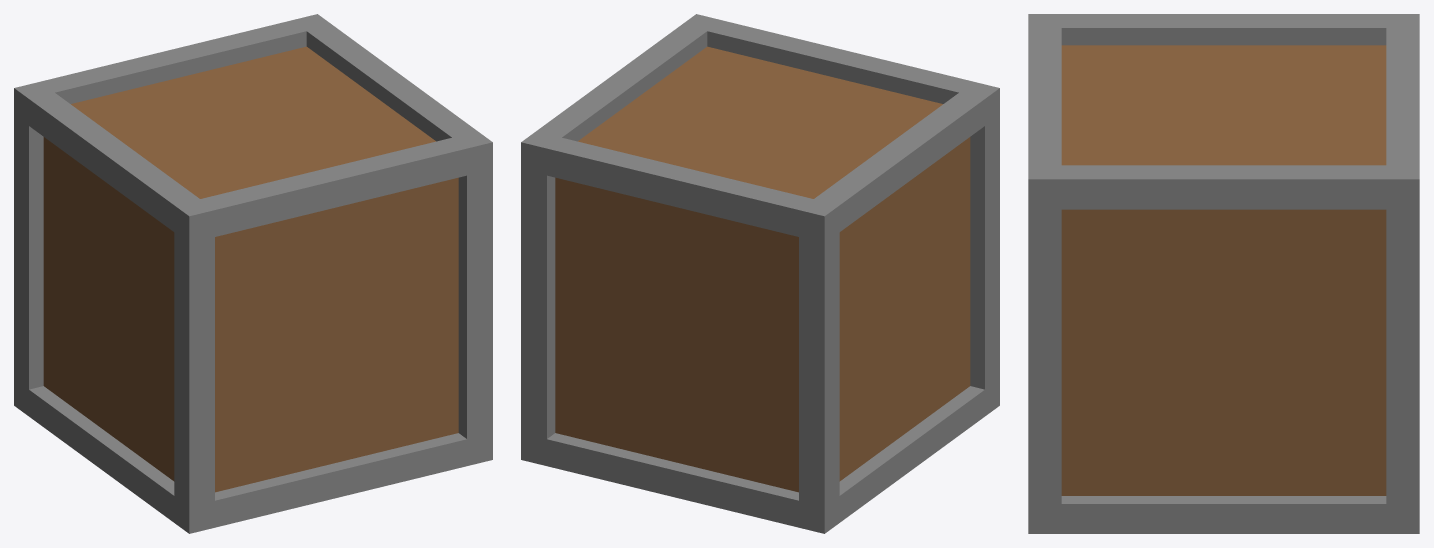
File: crate_001.glb
3 views of the same model, side by side, from view 1: azimuth 30°, elevation 25°; view 2: azimuth 150°, elevation 25°; view 3: azimuth 270°, elevation 25° (orthographic). The views are drawn at different scales.
Visible parts, largest first — view 1: crate.001; view 2: crate.001; view 3: crate.001.
Part boxes in pixels (x1,y1,x2,y2): crate.001: [14, 14, 492, 533]; crate.001: [521, 14, 999, 533]; crate.001: [1028, 14, 1419, 533].
Size of the model in its own units: 0.9354 by 0.9354 by 0.9354.
1 material, 1 textured.
